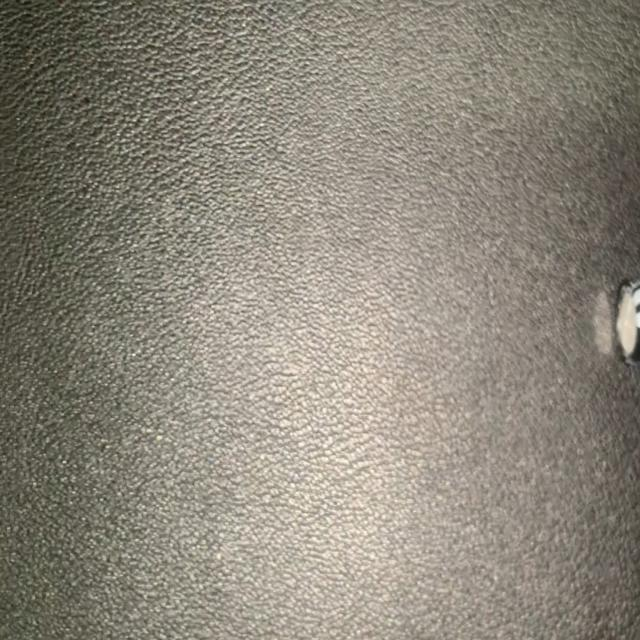capacitor: (612, 267, 640, 374)
